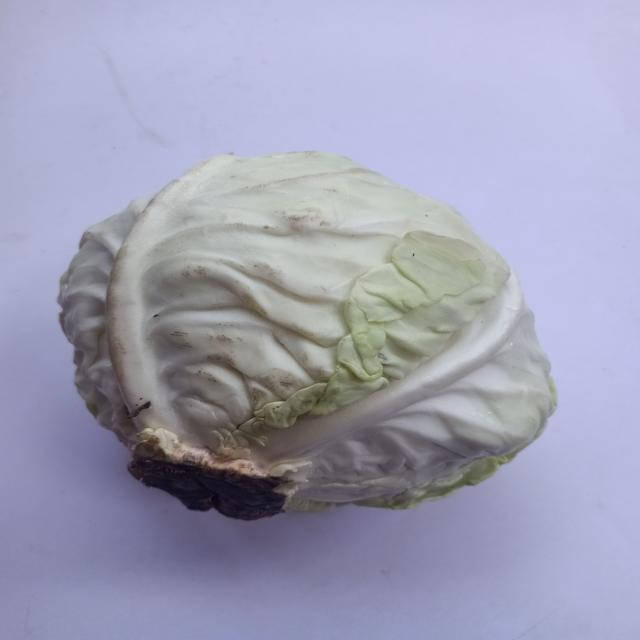Cabbage: (52, 145, 582, 539)
